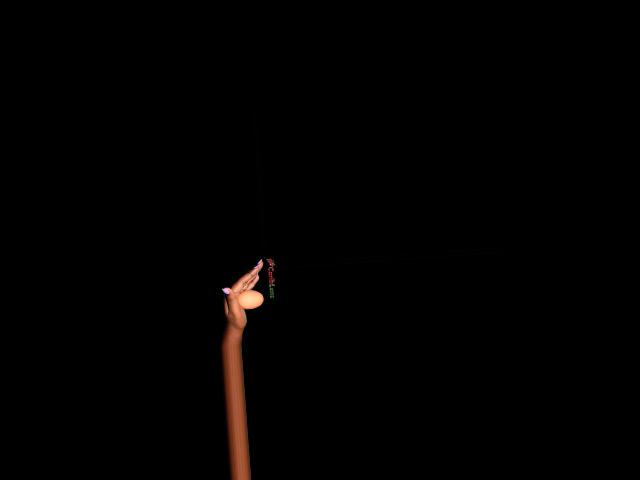egg: (237, 289, 264, 310)
